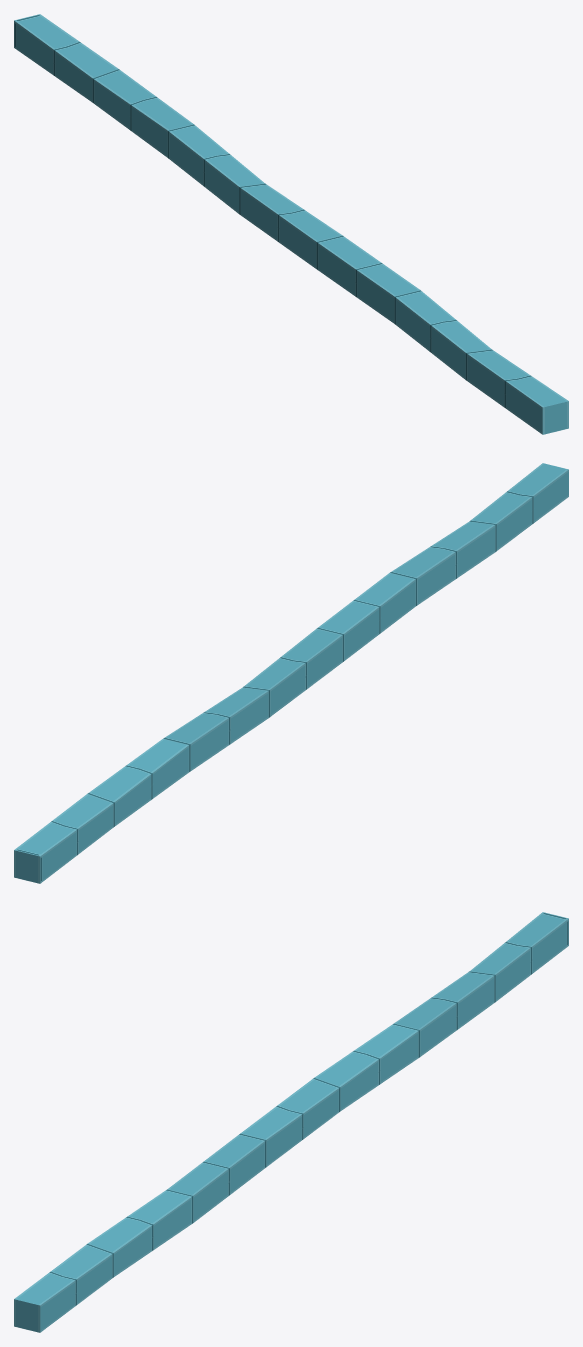
The model's file is curb02.fbx.
3 views of the same model, one above another, from view 1: azimuth 30°, elevation 25°; view 2: azimuth 150°, elevation 25°; view 3: azimuth 330°, elevation 25° (orthographic).
Visible parts, largest first — view 1: curb02; view 2: curb02; view 3: curb02.
Boxes of the visible parts, x1,y1,x2,y2 form: curb02: (14, 14, 568, 434); curb02: (14, 463, 568, 883); curb02: (14, 912, 568, 1332).
Bounding box in the file's own units: 23.34 × 20 × 700.
